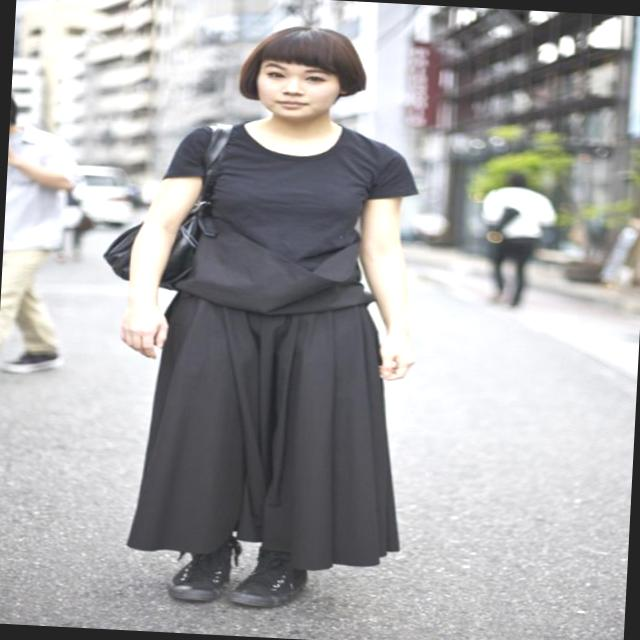Tshirt: (158, 118, 422, 316)
skirt: (121, 278, 415, 574)
